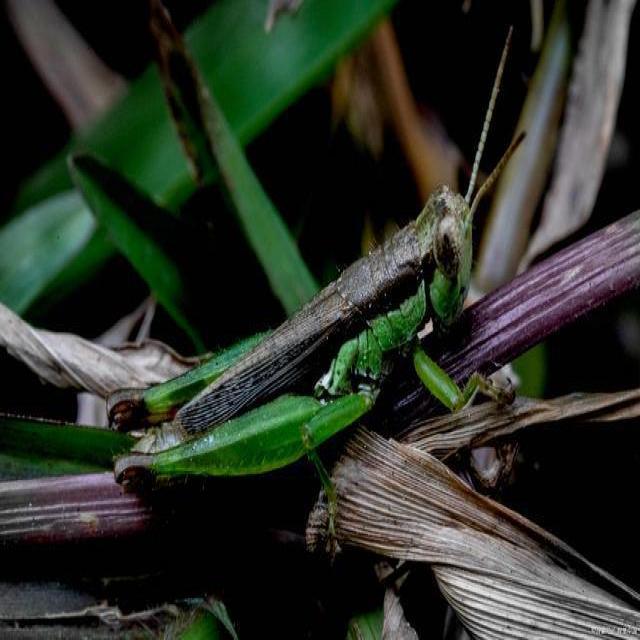ZhaMeng: (89, 153, 523, 509)
